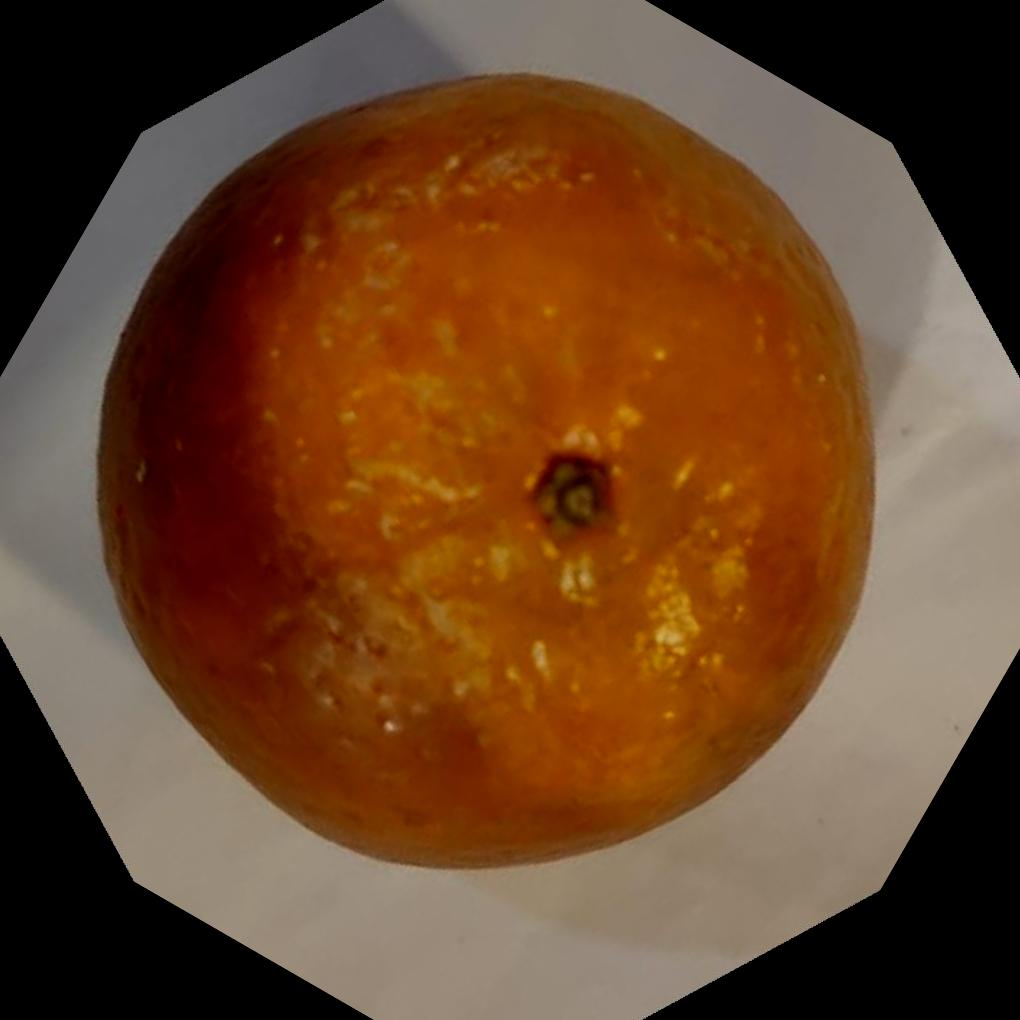FreshOrange: (94, 67, 881, 870)
